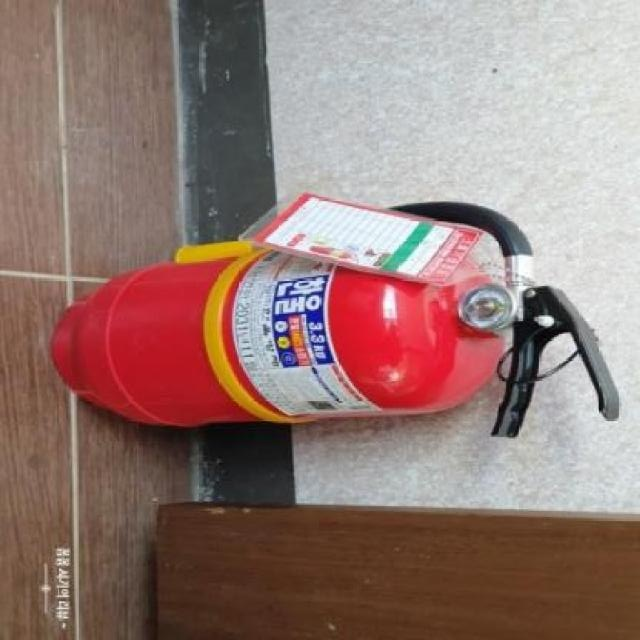fire extinguisher: (49, 202, 622, 440)
